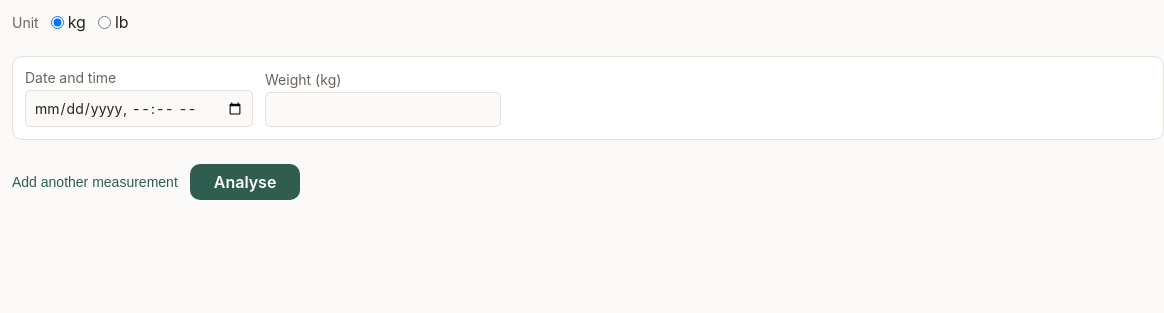
Test: MeasurementForm › adds a row when asked, and removes one when asked
Click the button "Add another measurement": [95, 182] box [12,166,178,198]
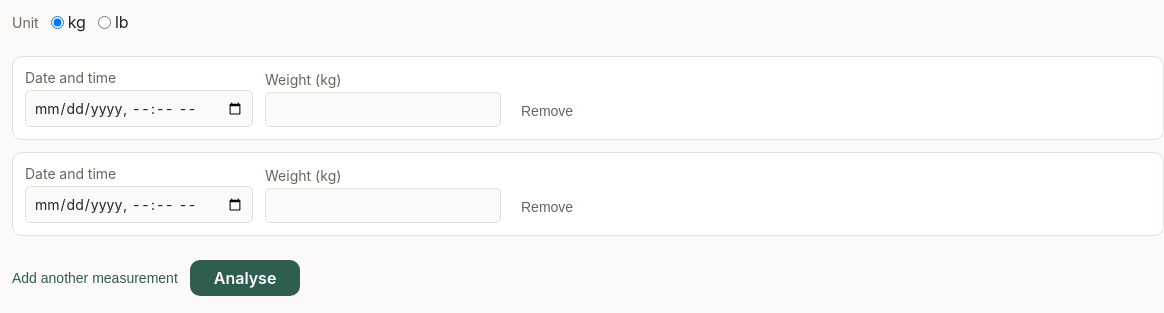
Result: the number of fields labelled "Date and time" is 2 at [25,90,253,127]; [25,186,253,223]
Click the button with aria-label "Remove row 1": [547, 111] box [513,95,581,127]
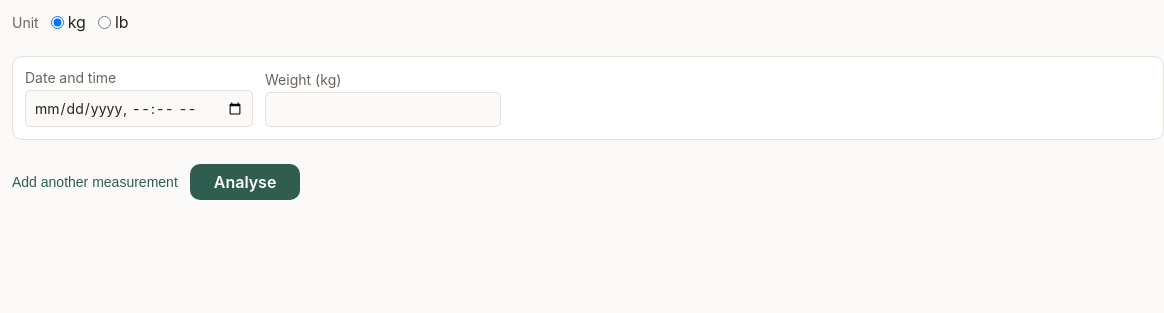
Result: the number of fields labelled "Date and time" is 1 at [25,90,253,127]
